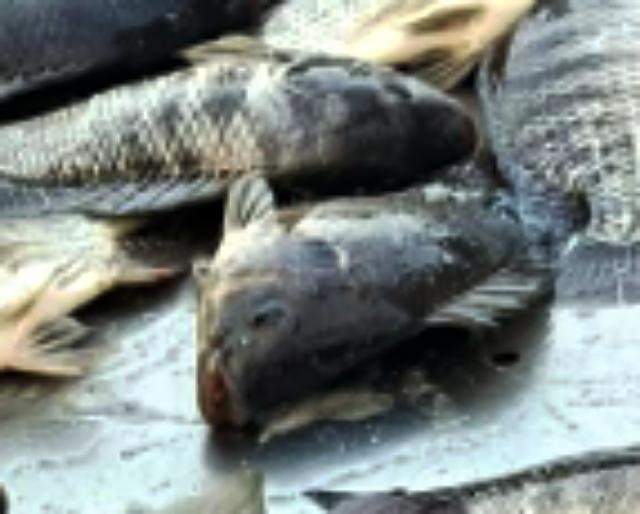Columnaris Disease: (192, 179, 546, 430), (0, 49, 470, 215), (0, 215, 183, 371)
